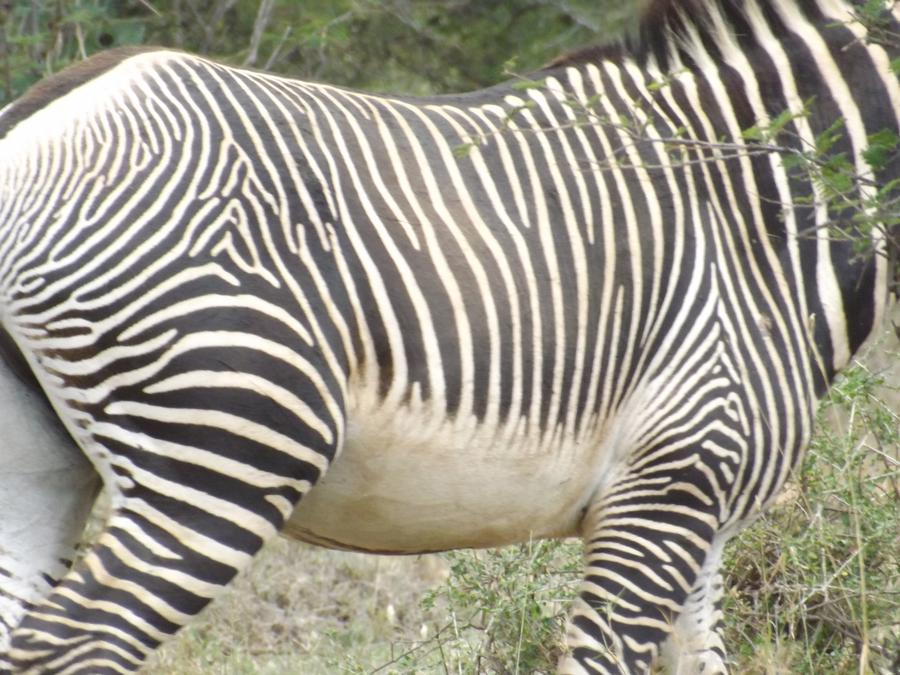zebra_grevys: (14, 34, 765, 519)
